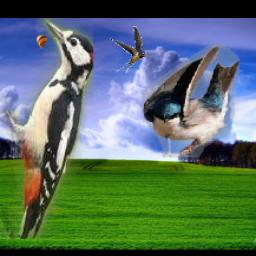Swallow: (143, 45, 241, 158), (107, 26, 146, 74)
Woodpecker: (0, 18, 93, 239)
